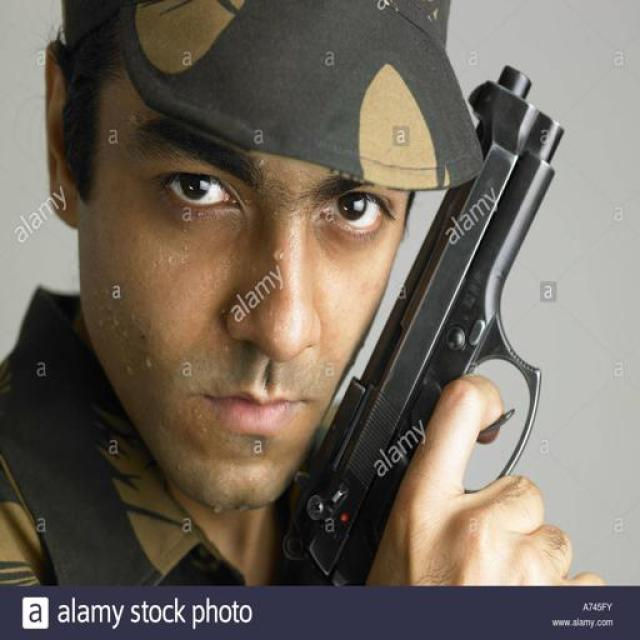pistol: (280, 65, 569, 587)
